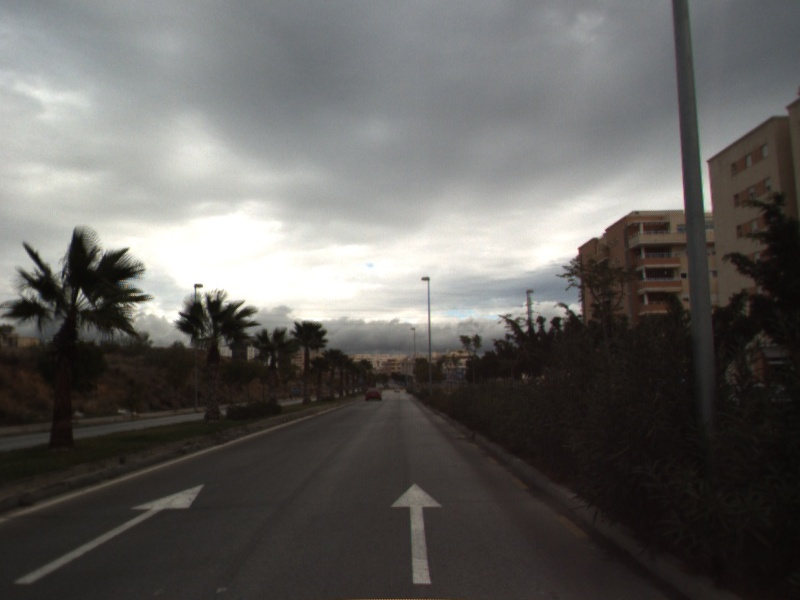STRAIGHT: (12, 482, 207, 586), (388, 481, 446, 586)
